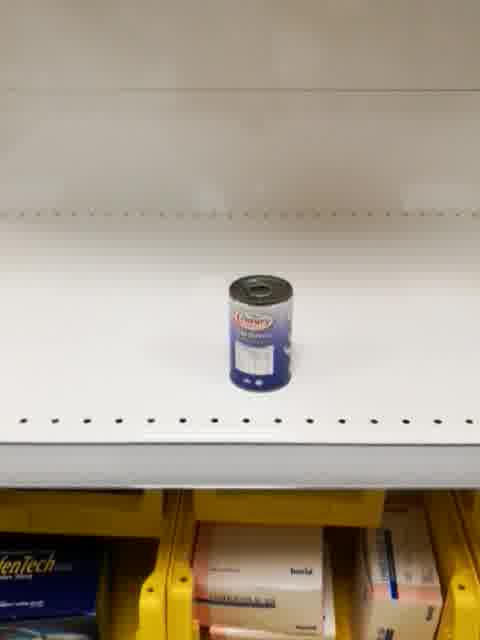sardine: (228, 274, 293, 395)
